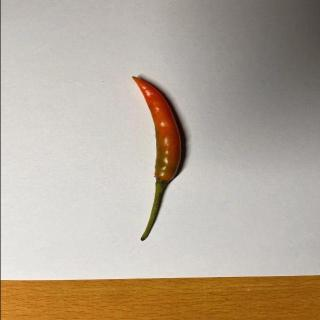Cabai Merah: (131, 76, 184, 243)
